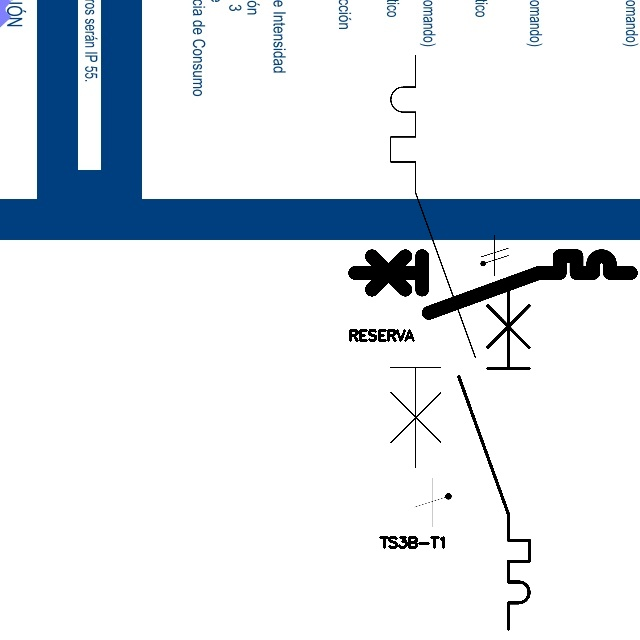interruptor_termomagnetico: (380, 45, 486, 478), (450, 275, 538, 637), (348, 249, 638, 320)
